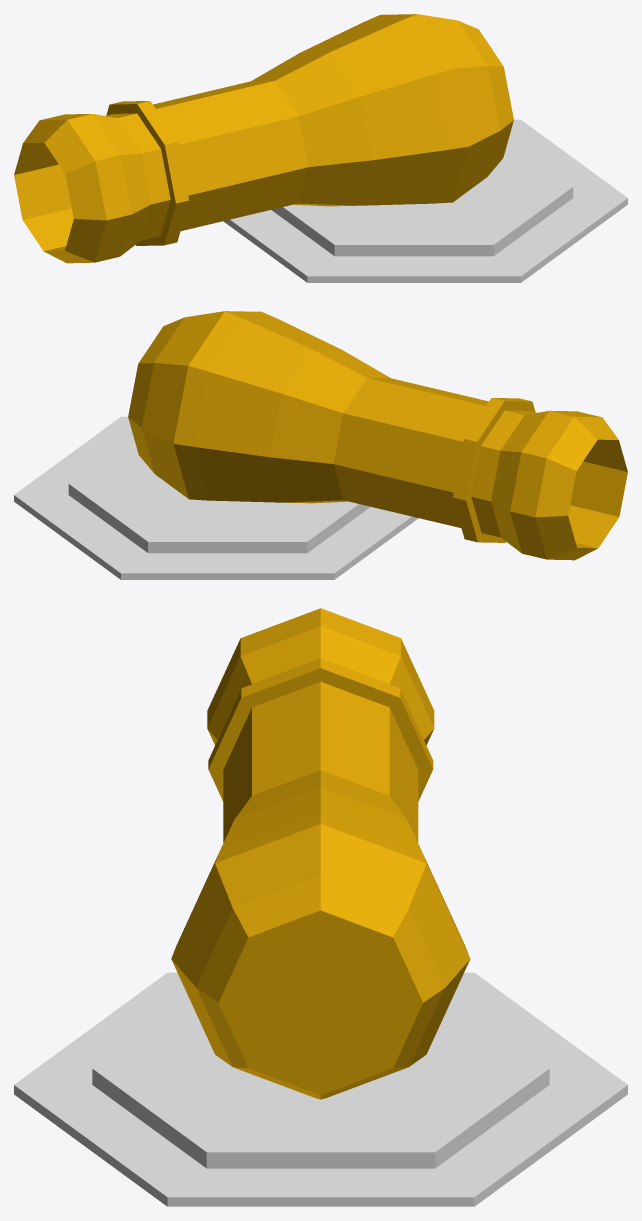
File: canon.fbx
The picture shows the model from 3 angles, top to bottom: view 1: azimuth 30°, elevation 25°; view 2: azimuth 150°, elevation 25°; view 3: azimuth 270°, elevation 25°; orthographic projection. The views are drawn at different scales.
Parts seen in each view (by area): view 1: Circle, Circle.001; view 2: Circle, Circle.001; view 3: Circle, Circle.001.
Boxes of the visible parts, x1,y1,x2,y2 form: Circle: (14, 14, 513, 263); Circle.001: (223, 119, 627, 282); Circle: (128, 311, 627, 560); Circle.001: (14, 416, 418, 579); Circle: (171, 608, 470, 1099); Circle.001: (14, 972, 627, 1206).
Size of the model in its own units: 860 by 294 by 600.
